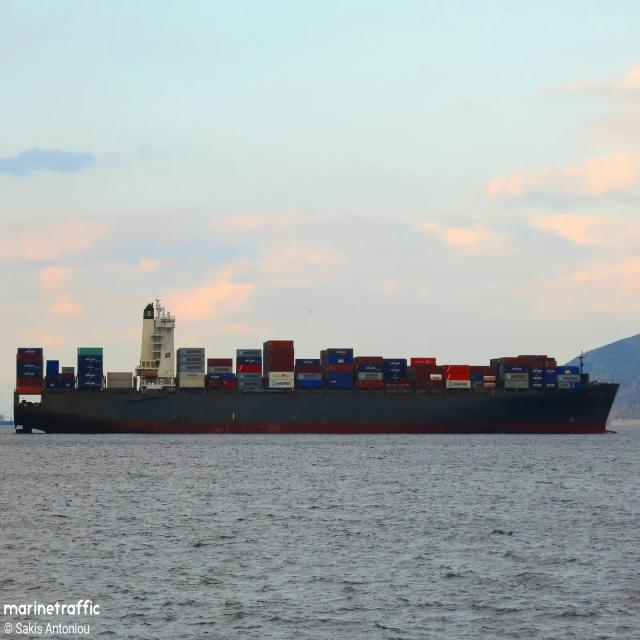Cargo: (14, 301, 619, 433)
